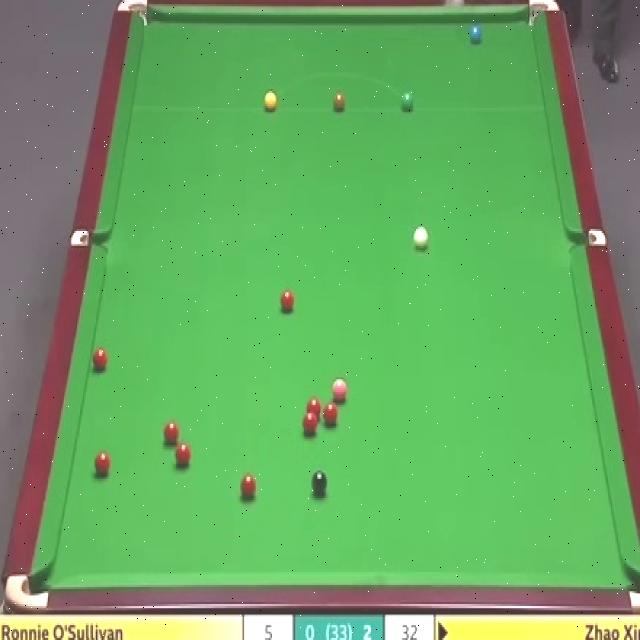black-ball: (311, 470, 328, 498)
blue-ball: (468, 19, 484, 45)
brown-ball: (332, 92, 347, 114)
green-ball: (400, 91, 415, 114)
pink-ball: (329, 378, 348, 404)
red-ball: (94, 450, 112, 479), (239, 474, 257, 501), (174, 442, 192, 468), (162, 421, 179, 448), (279, 288, 296, 314), (322, 402, 339, 426), (302, 412, 318, 437), (91, 347, 107, 372), (305, 397, 322, 419)
white-ball: (412, 222, 429, 252)
yellow-ball: (264, 90, 278, 112)
